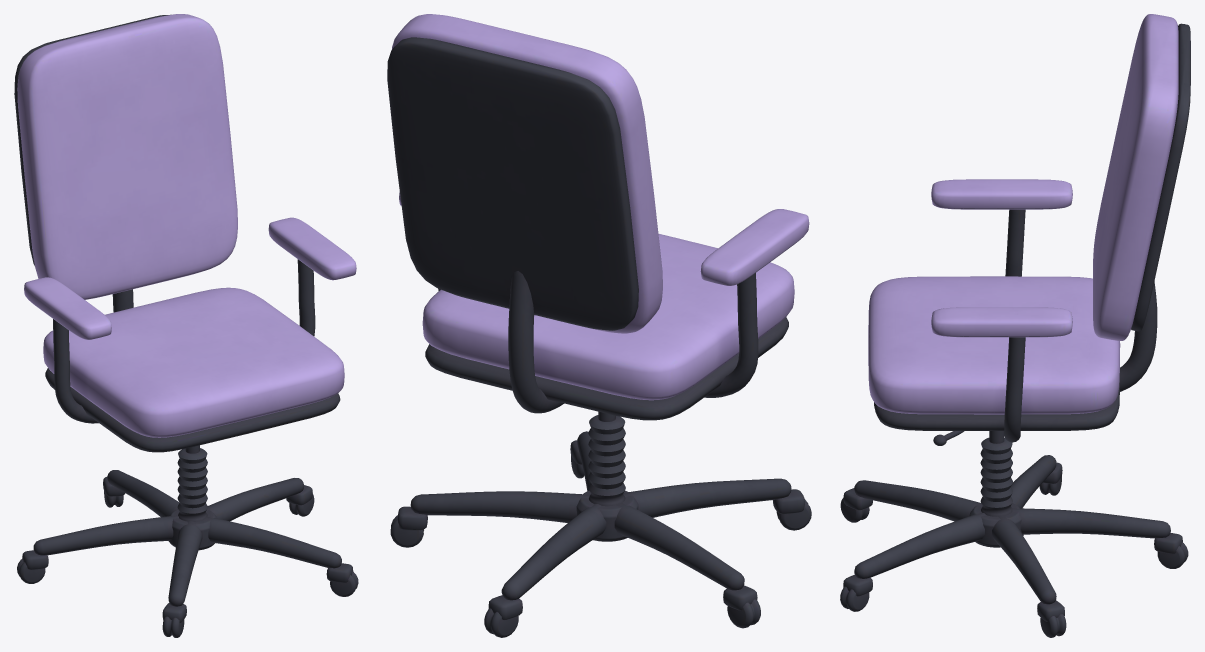
File: office-chair.glb
The picture shows the model from 3 angles, left to right: view 1: azimuth 30°, elevation 25°; view 2: azimuth 150°, elevation 25°; view 3: azimuth 270°, elevation 25°; orthographic projection. The views are drawn at different scales.
Visible parts, largest first — view 1: office-chair_body; view 2: office-chair_body; view 3: office-chair_body.
Part boxes in pixels (left/top/right/bottom): office-chair_body: left=14, top=14, right=358, bottom=637; office-chair_body: left=387, top=14, right=811, bottom=637; office-chair_body: left=840, top=14, right=1190, bottom=637.
Bounding box in the file's own units: 0.698 × 1.08 × 0.6681.
1 material, 1 textured.
